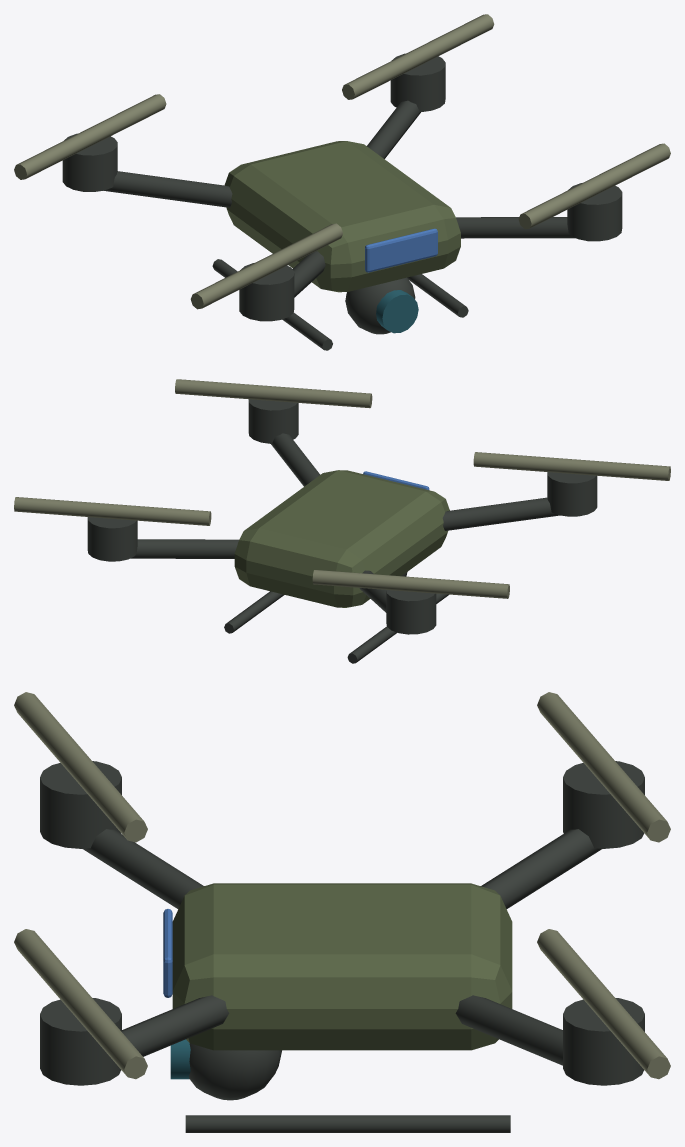
The model's file is drone.glb.
The picture shows the model from 3 angles, top to bottom: view 1: azimuth 30°, elevation 25°; view 2: azimuth 150°, elevation 25°; view 3: azimuth 270°, elevation 25°; orthographic projection. The views are drawn at different scales.
Parts seen in each view (by area): view 1: Armor, Steel, EdgeSteel, TeamColor, Optics; view 2: Armor, Steel, EdgeSteel; view 3: Armor, Steel, EdgeSteel, TeamColor, Optics.
Boxes of the visible parts, x1,y1,x2,y2 form: Armor: (224,141,460,292); Steel: (62,53,622,350); EdgeSteel: (14,14,670,309); TeamColor: (365,228,437,272); Optics: (376,290,418,333); Armor: (234,470,449,607); Steel: (87,399,597,663); EdgeSteel: (14,379,670,598); Armor: (172,883,512,1050); Steel: (40,761,644,1132); EdgeSteel: (14,692,670,1079); TeamColor: (163,909,172,997); Optics: (170,1039,190,1079).
Size of the model in its own units: 2.33 by 0.654 by 1.76.
